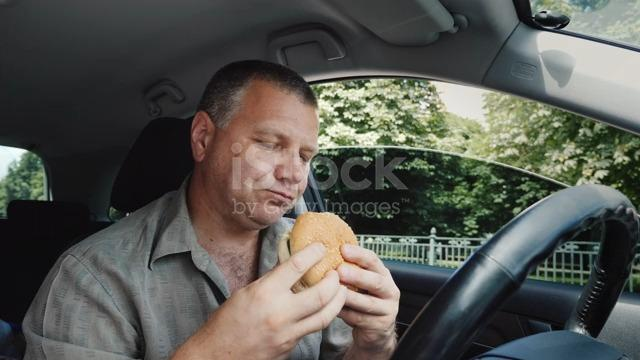Eating: (180, 59, 399, 315)
